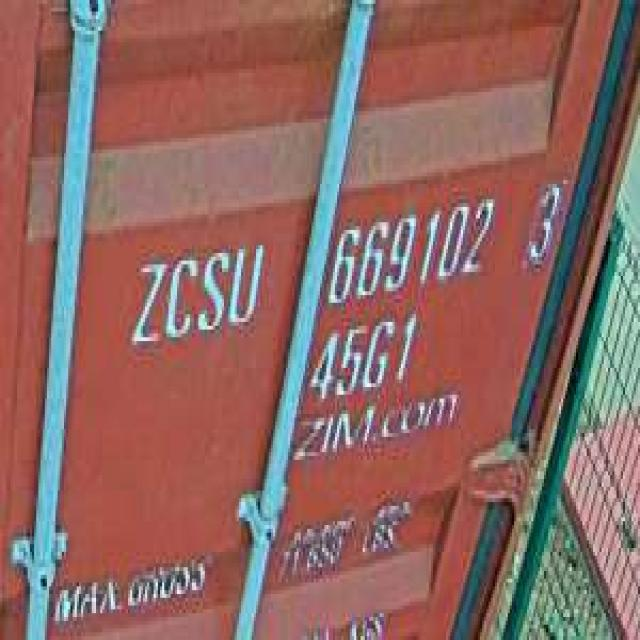dv: (518, 163, 565, 282)
owner: (124, 234, 266, 352)
serial: (322, 196, 497, 306)
size: (305, 310, 420, 406)
